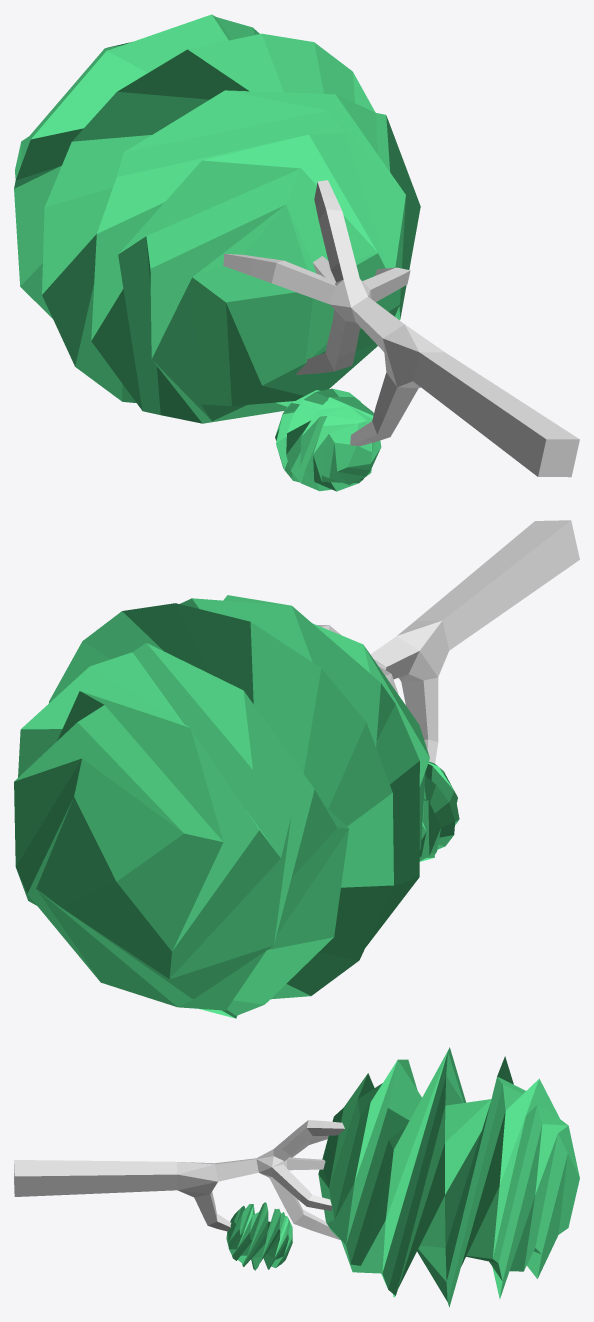
Rendered from tree1.fbx.
The picture shows the model from 3 angles, top to bottom: view 1: azimuth 30°, elevation 25°; view 2: azimuth 150°, elevation 25°; view 3: azimuth 270°, elevation 25°; orthographic projection. The views are drawn at different scales.
Parts seen in each view (by area): view 1: Cube; view 2: Cube; view 3: Cube.
Boxes of the visible parts, box(x1,y1,x2,y2) form: Cube: box(14, 14, 579, 491); Cube: box(14, 520, 579, 1018); Cube: box(14, 1047, 579, 1307).
Size of the model in its own units: 491 by 491 by 1070.
